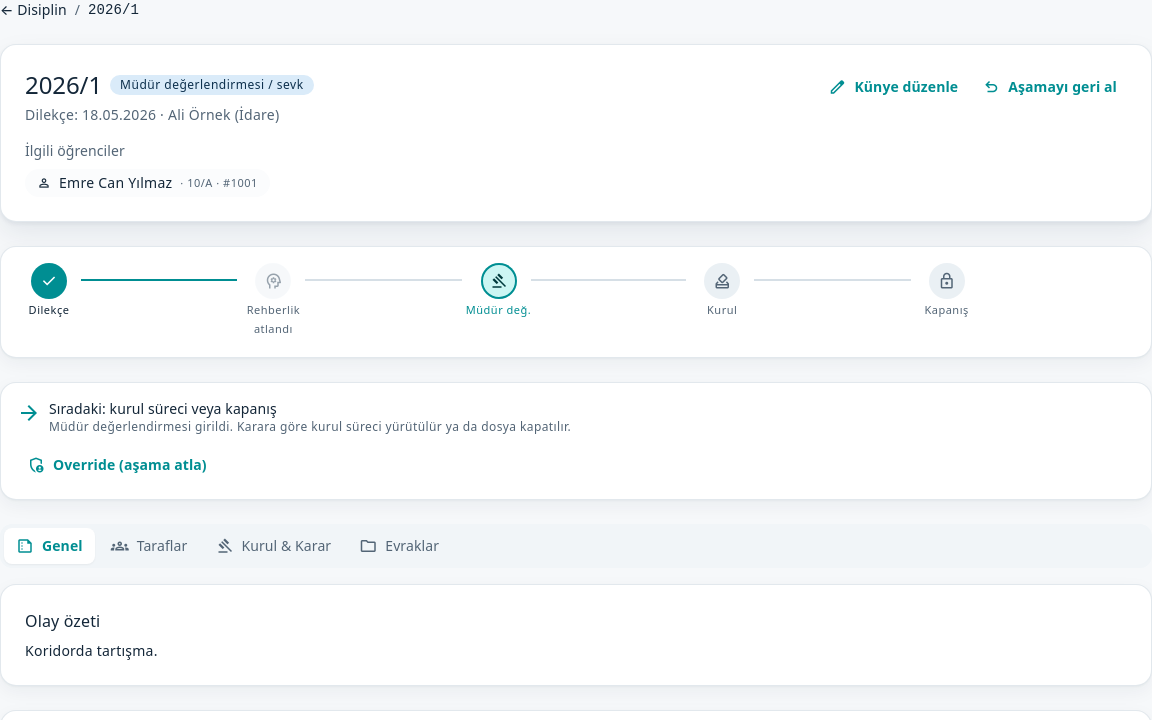
Test: DisiplinDetayPage — gerekçe metinleri gerçeğe hizalı (bulgu #11) › aşama geri alma: 'denetim kaydı' vaadi yok, saklanmadığı söylenir
Expected: the text "İlgili öğrenciler" is shown, [25,141,125,160]
Click the button "Aşamayı geri al". click: click(1050, 87)
box: [972,69,1127,105]
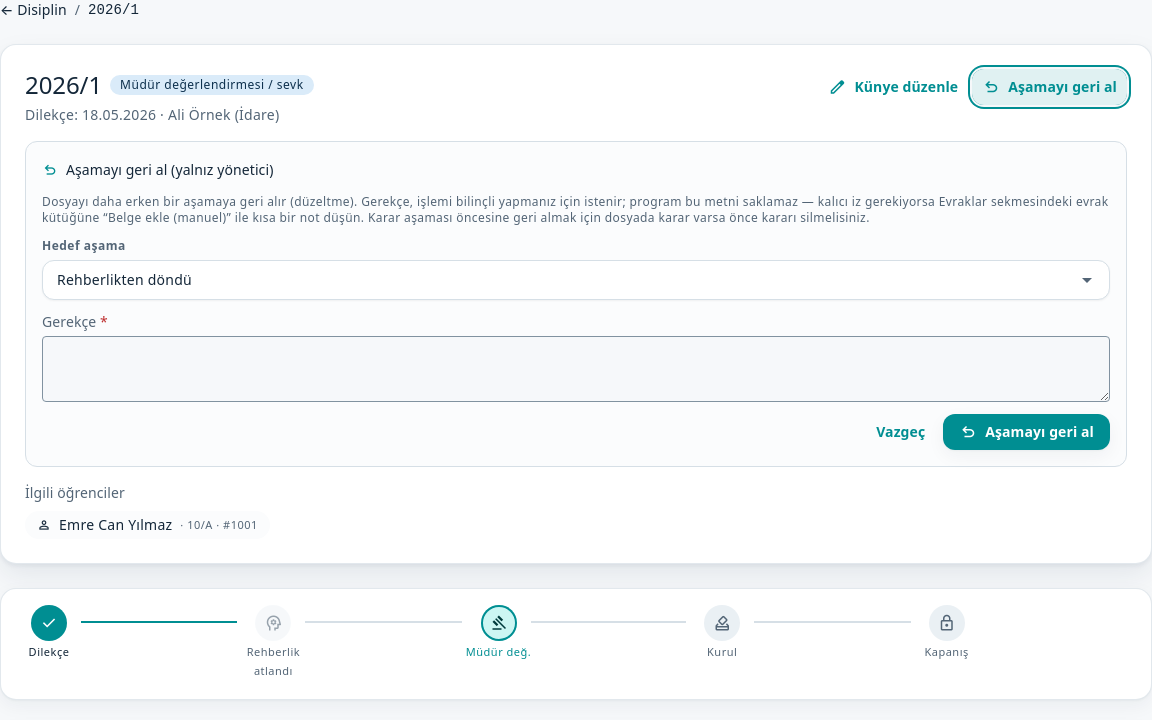
Expected: the text "evrak kütüğüne" is shown, [42,193,1108,226]
